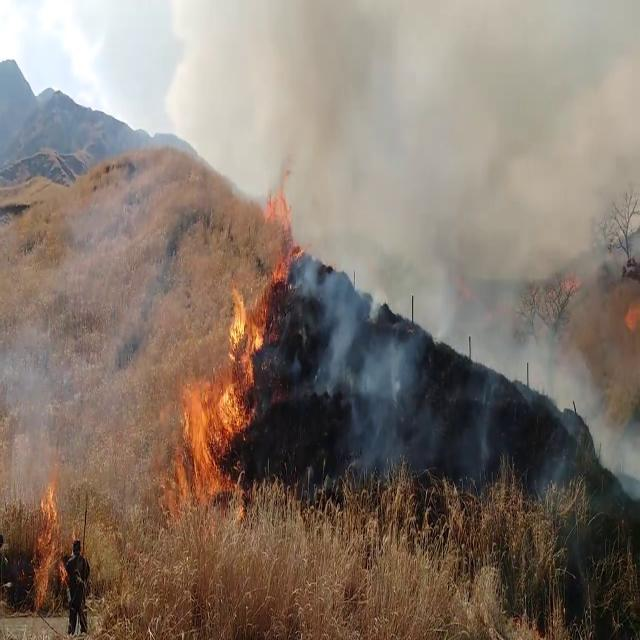Fire: (178, 277, 267, 511), (30, 462, 67, 606), (266, 176, 296, 292)
Smoke: (268, 13, 640, 485)
